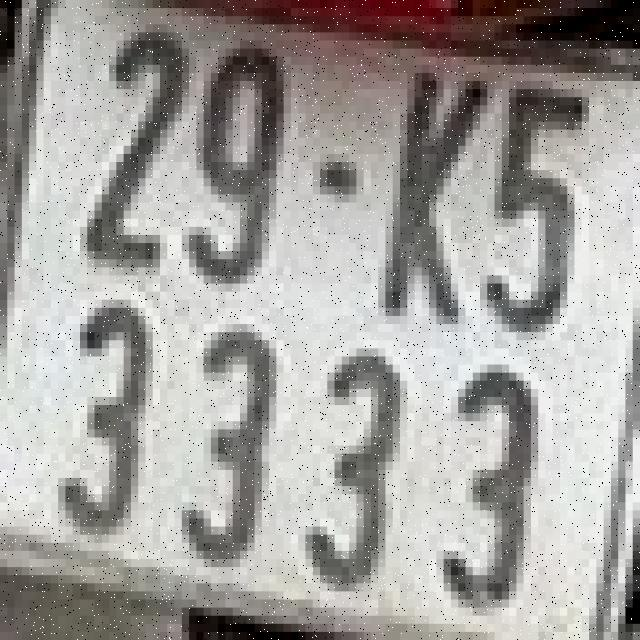2: (80, 24, 182, 276)
3: (305, 348, 400, 592), (444, 364, 538, 608), (185, 328, 273, 563), (62, 300, 149, 534)
5: (491, 81, 585, 332)
9: (185, 40, 288, 284)
K: (389, 69, 476, 320)
